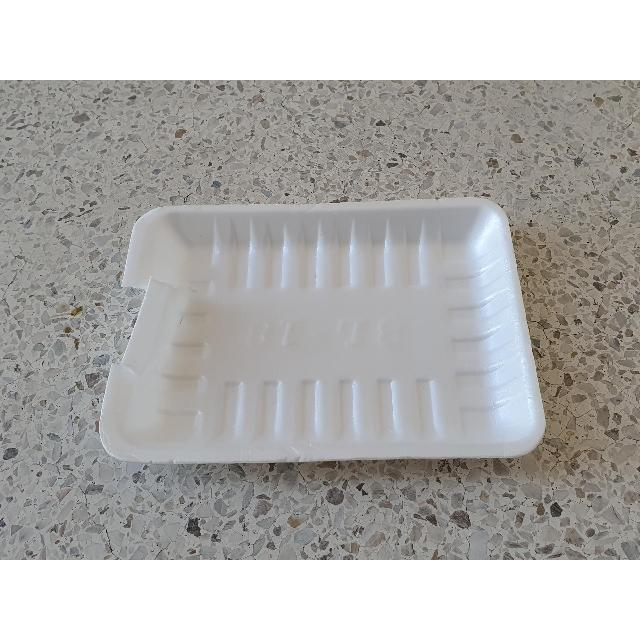Plastico descartable: (98, 198, 547, 467)
